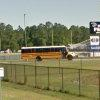Bus: (17, 43, 79, 64)
